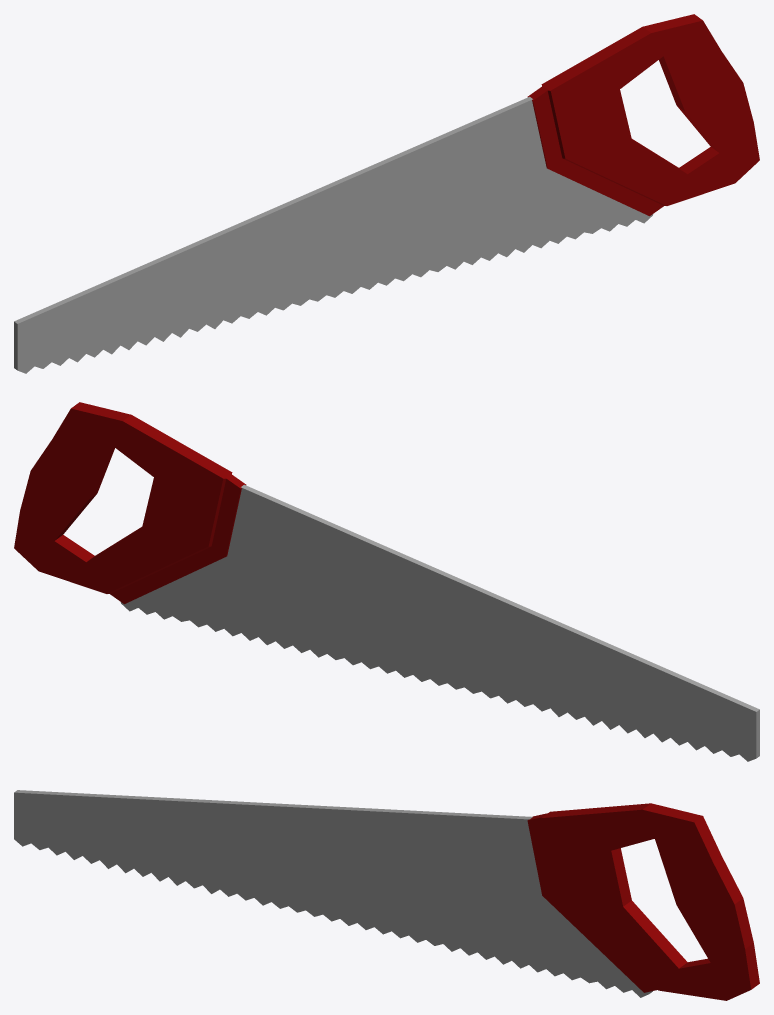
The model's file is scie.fbx.
3 renders of one model, top to bottom at view 1: azimuth 30°, elevation 25°; view 2: azimuth 150°, elevation 25°; view 3: azimuth 330°, elevation 25°, orthographic.
Visible parts, largest first — view 1: Cube, Cube.001; view 2: Cube, Cube.001; view 3: Cube, Cube.001.
Part boxes in pixels (box(x1,y1,x2,y2)): Cube: box(14, 96, 653, 373); Cube.001: box(527, 14, 759, 216); Cube: box(120, 484, 759, 761); Cube.001: box(14, 402, 246, 604); Cube: box(14, 790, 652, 997); Cube.001: box(527, 803, 759, 1000).
Bounding box in the file's own units: 937 × 233 × 19.24.
